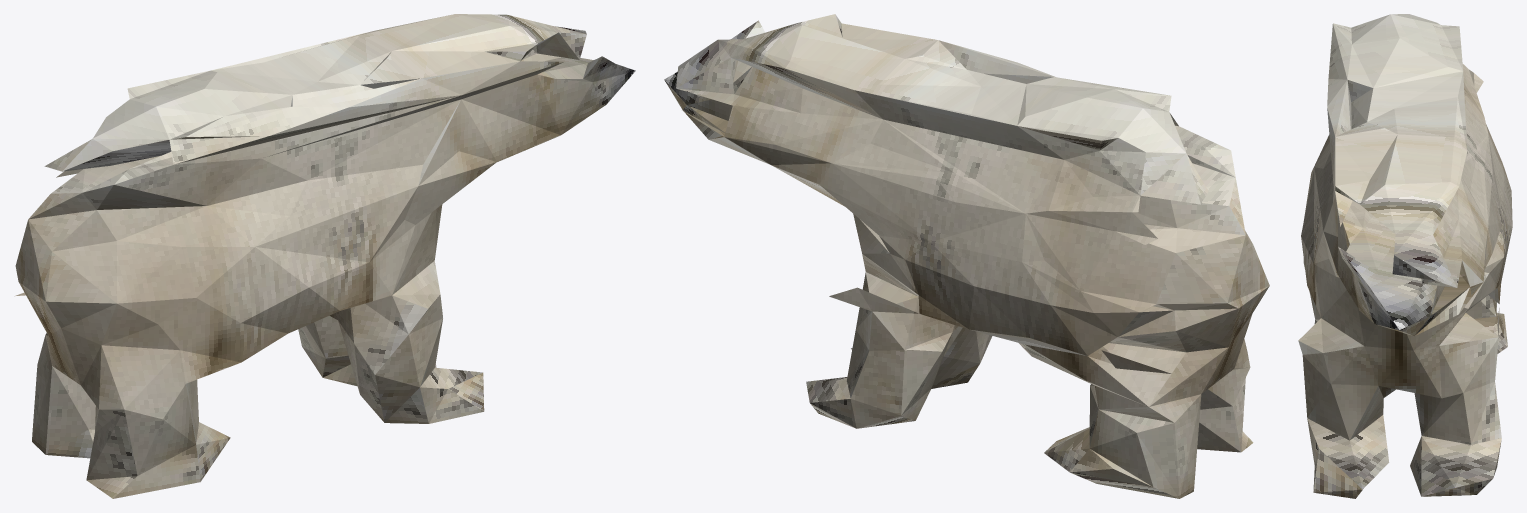
Rendered from oso_polar.glb.
The picture shows the model from 3 angles, left to right: view 1: azimuth 30°, elevation 25°; view 2: azimuth 150°, elevation 25°; view 3: azimuth 270°, elevation 25°; orthographic projection. The views are drawn at different scales.
Visible parts, largest first — view 1: animal.salvaje.oso; view 2: animal.salvaje.oso; view 3: animal.salvaje.oso.
Part boxes in pixels (x1,y1,x2,y2): animal.salvaje.oso: [14, 14, 635, 498]; animal.salvaje.oso: [664, 14, 1269, 498]; animal.salvaje.oso: [1298, 14, 1512, 498].
Bounding box in the file's own units: 3.02 × 1.69 × 0.9474.
1 material, 1 textured.
